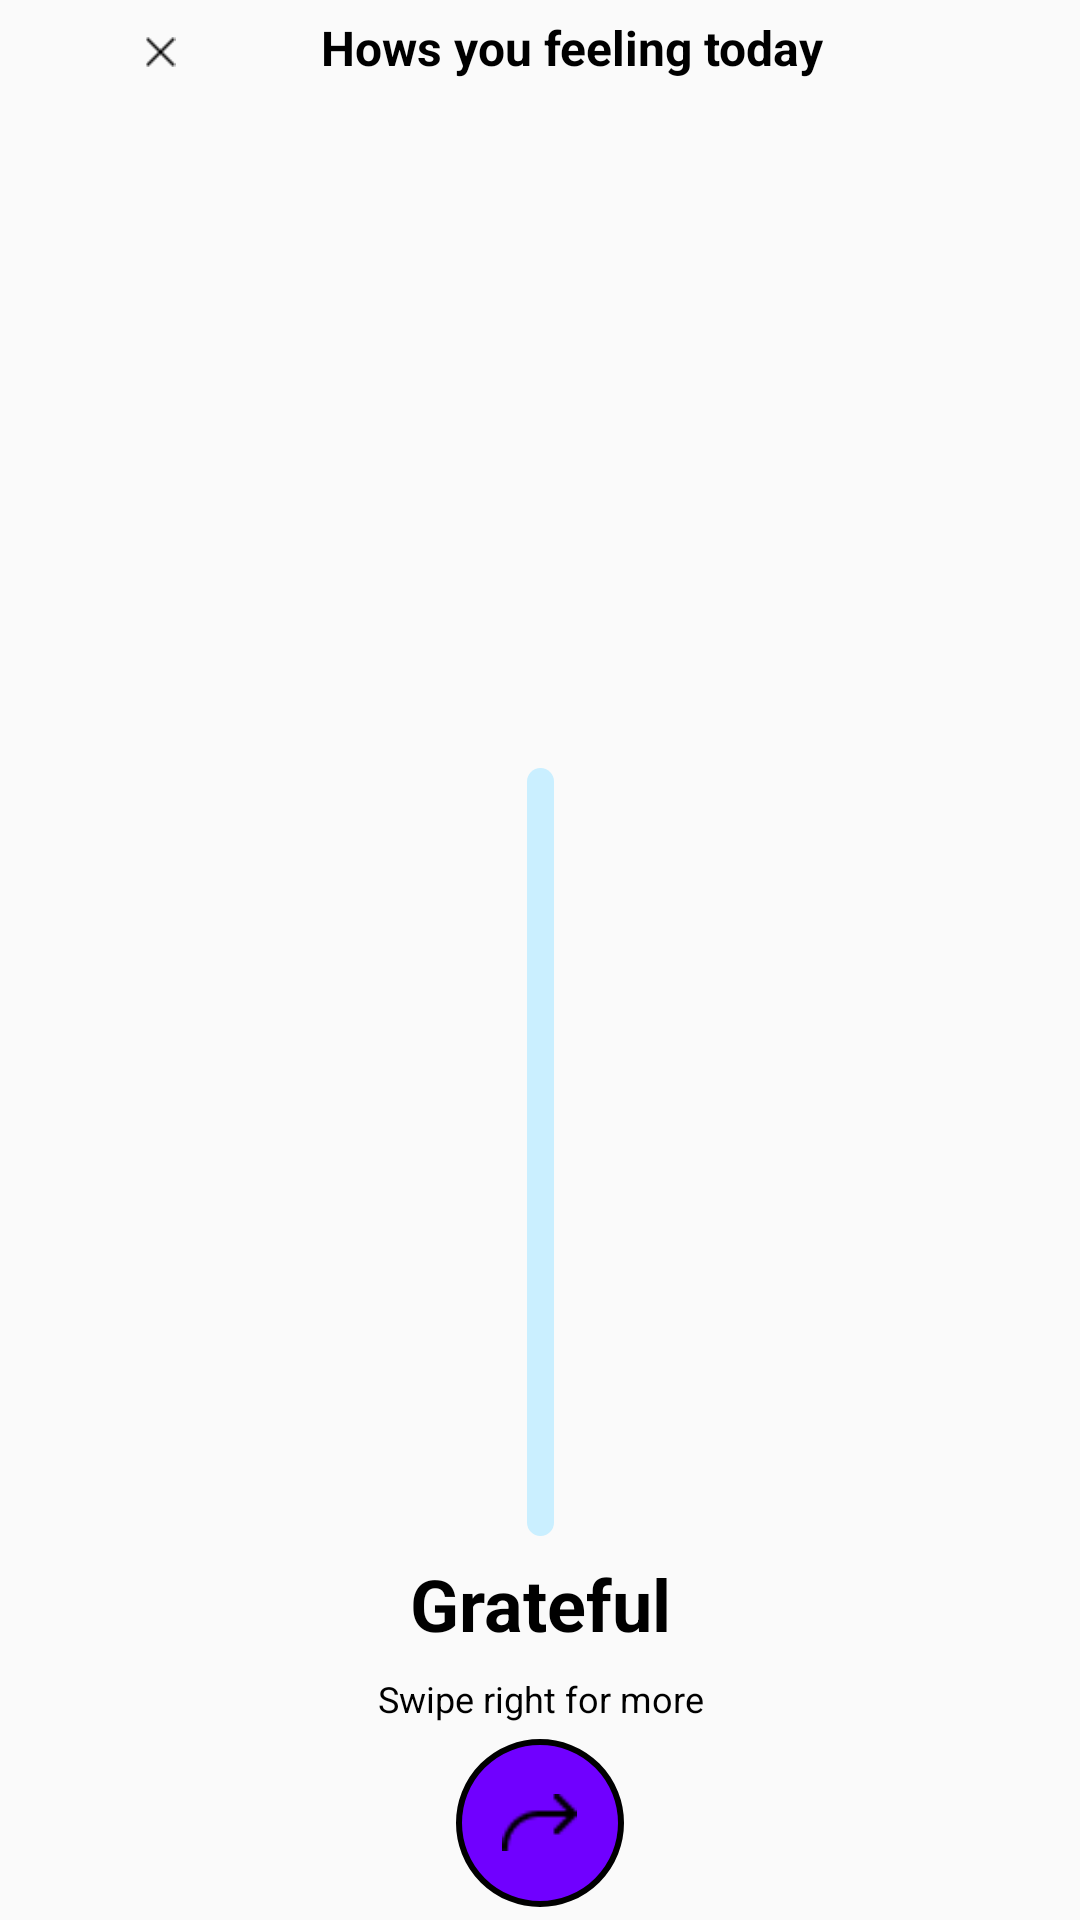

Named icons in this screenshot (1080w x 1920h) and their centers, (x=x, y=y):
cancel: (x=161, y=52)
next: (x=539, y=1822)
